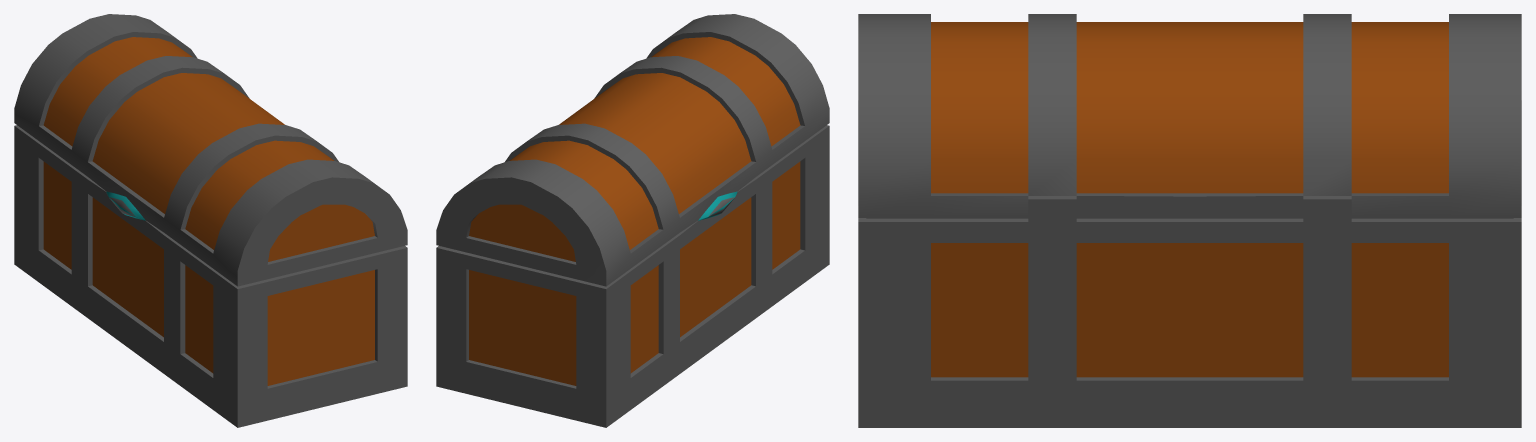
File: CofreMSv7.fbx
3 renders of one model, left to right at view 1: azimuth 30°, elevation 25°; view 2: azimuth 150°, elevation 25°; view 3: azimuth 270°, elevation 25°, orthographic. The views are drawn at different scales.
Parts seen in each view (by area): view 1: Box001; view 2: Box001; view 3: Box001.
Boxes of the visible parts, <box> form: Box001: <box>14,14,407,427</box>; Box001: <box>436,14,829,427</box>; Box001: <box>858,14,1521,427</box>.
Size of the model in its own units: 19.13 by 23.02 by 41.
